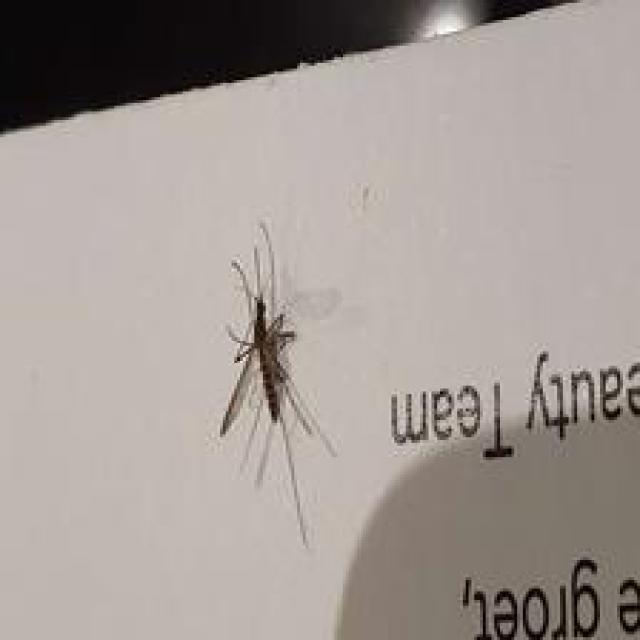Culex: (217, 220, 340, 549)
